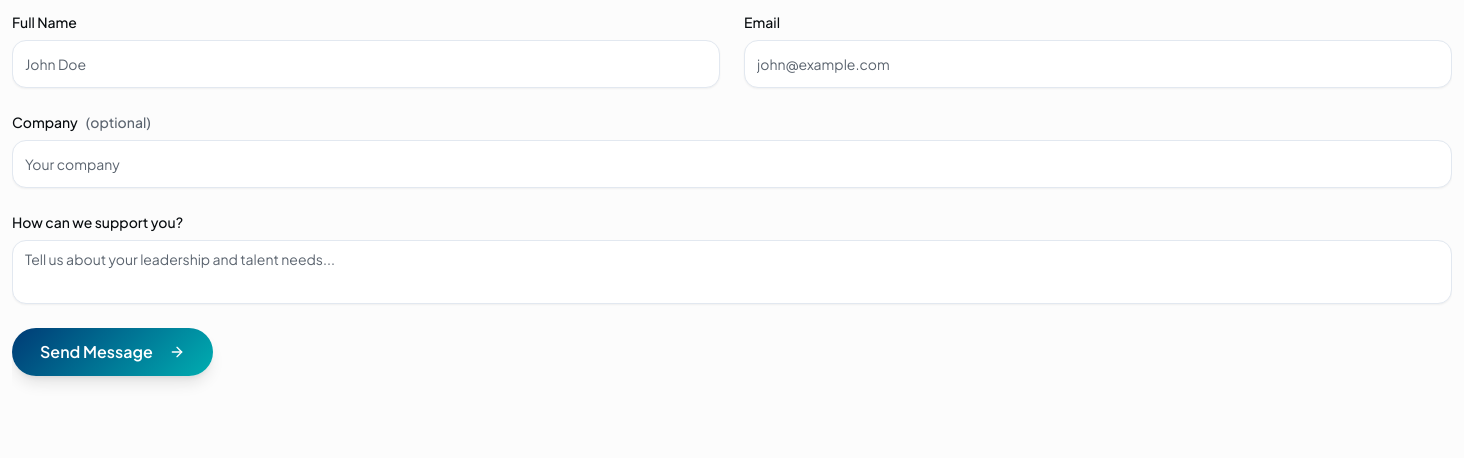
Test: ContactForm › shows validation error for name that is too short
Type "A" into the field labelled "Full Name" at (366, 64), box [12,40,720,88]
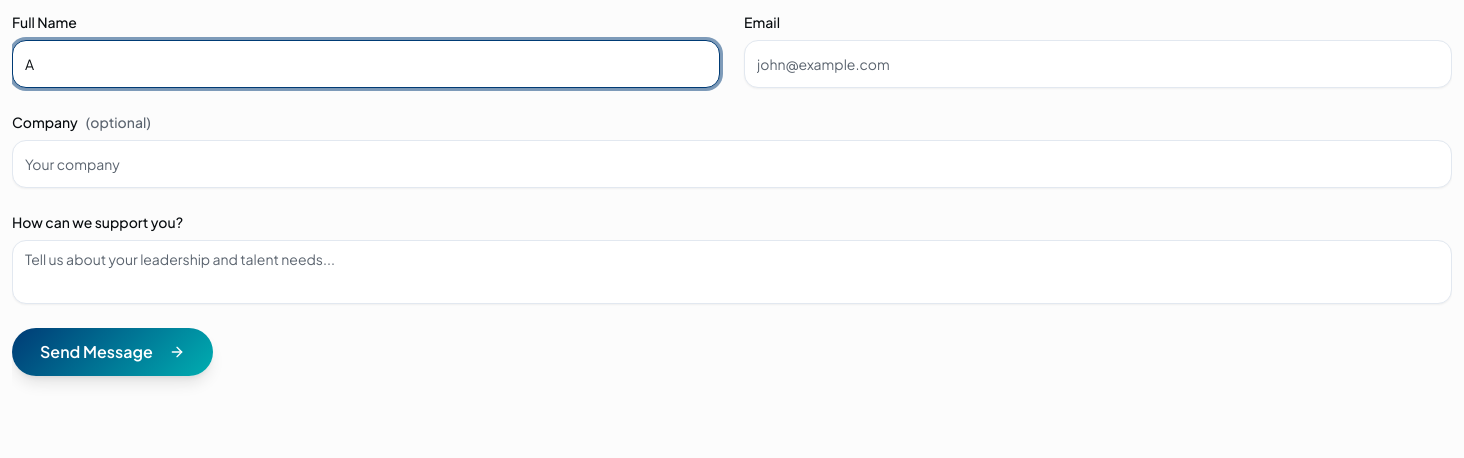
Click the button "Send Message" at (112, 352), box [12,328,213,376]
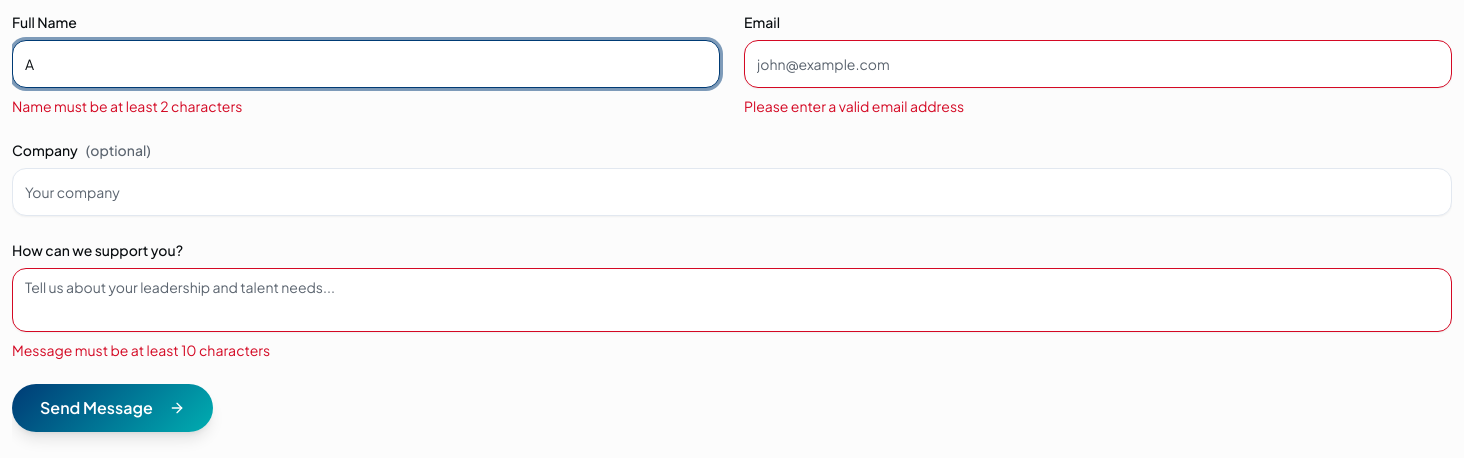
Expected: the text "Name must be at least 2 characters" is shown, [12,97,242,115]
